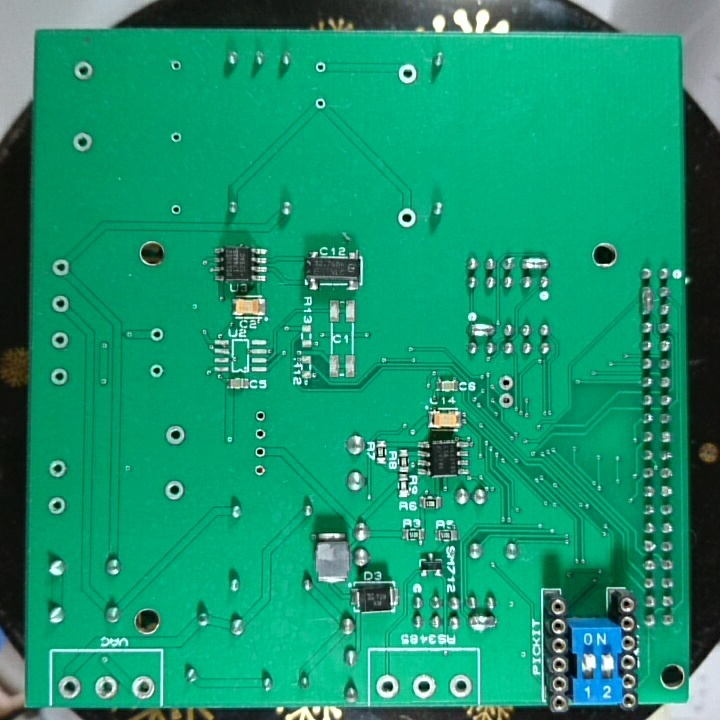F: (374, 672, 401, 702), (410, 672, 437, 701), (129, 673, 156, 702), (91, 673, 119, 700), (447, 672, 473, 700), (55, 675, 83, 700), (71, 58, 97, 83), (162, 478, 187, 504), (71, 129, 95, 155), (163, 423, 187, 448), (396, 62, 420, 86), (45, 493, 68, 518), (48, 329, 71, 353), (46, 457, 69, 480), (49, 293, 71, 315), (396, 206, 417, 229), (49, 256, 71, 277), (496, 372, 517, 392), (49, 366, 69, 386), (496, 390, 516, 410), (146, 361, 165, 380), (251, 442, 269, 461), (168, 129, 185, 147), (148, 325, 165, 343), (250, 463, 268, 480), (312, 59, 328, 77), (252, 425, 268, 443), (168, 58, 183, 75), (254, 408, 268, 426), (313, 96, 327, 112), (168, 203, 182, 217)
P: (465, 612, 499, 633), (519, 253, 551, 274), (637, 283, 655, 318), (466, 321, 496, 338)
